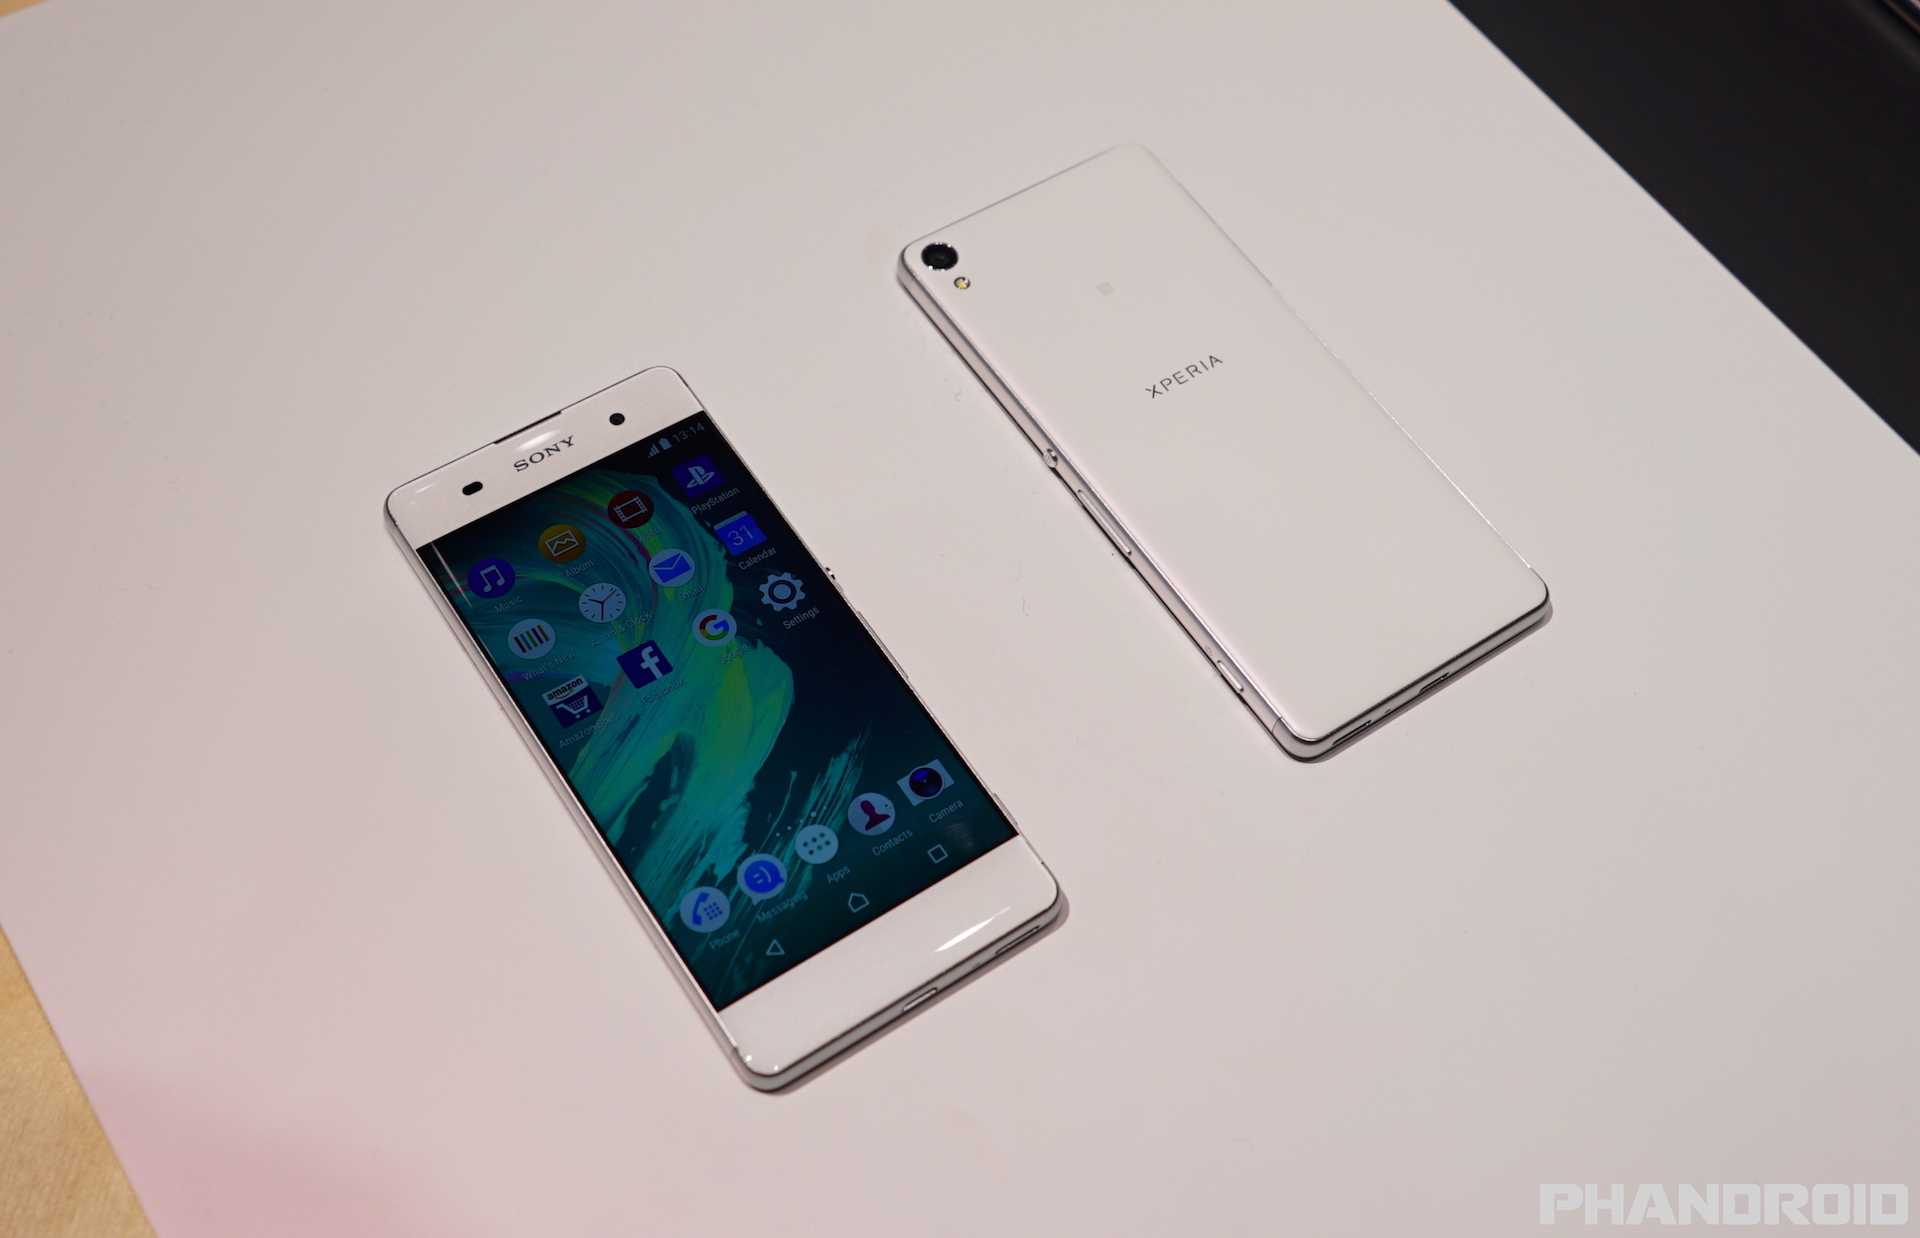smartphone: (381, 362, 1069, 1097), (896, 131, 1553, 762)
